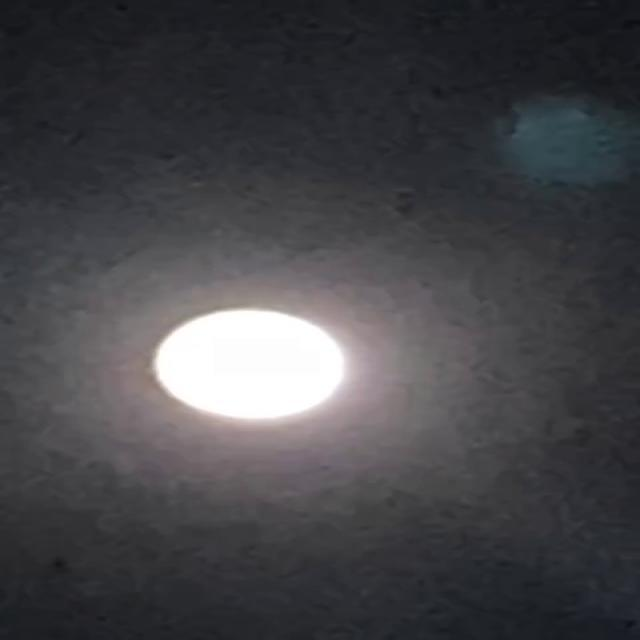moon: (153, 295, 376, 439)
